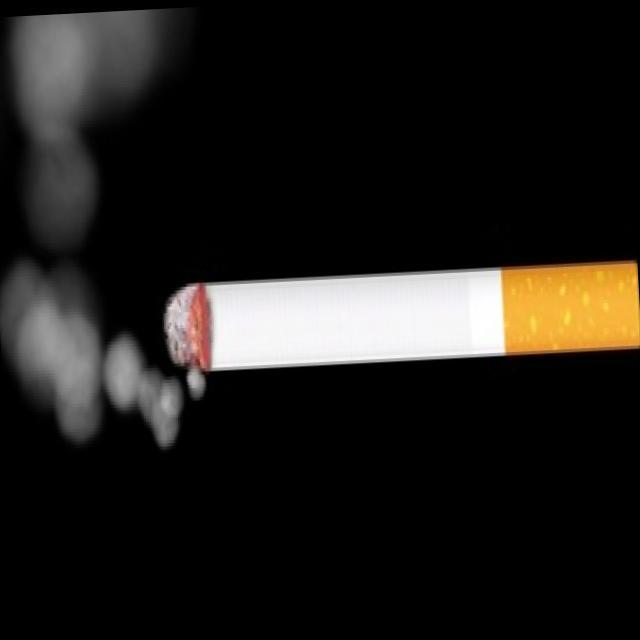cigarette: (140, 248, 640, 392)
